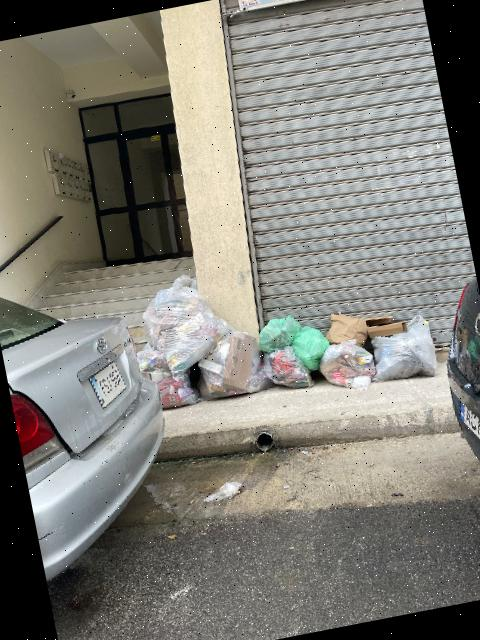Other: (290, 326, 329, 370), (259, 314, 301, 352), (325, 312, 367, 346), (364, 316, 406, 338)
Recyclable -Grey-: (142, 276, 227, 376), (198, 330, 267, 398), (372, 314, 436, 381), (136, 343, 198, 407), (319, 340, 376, 388), (263, 346, 312, 388), (142, 367, 172, 383)
